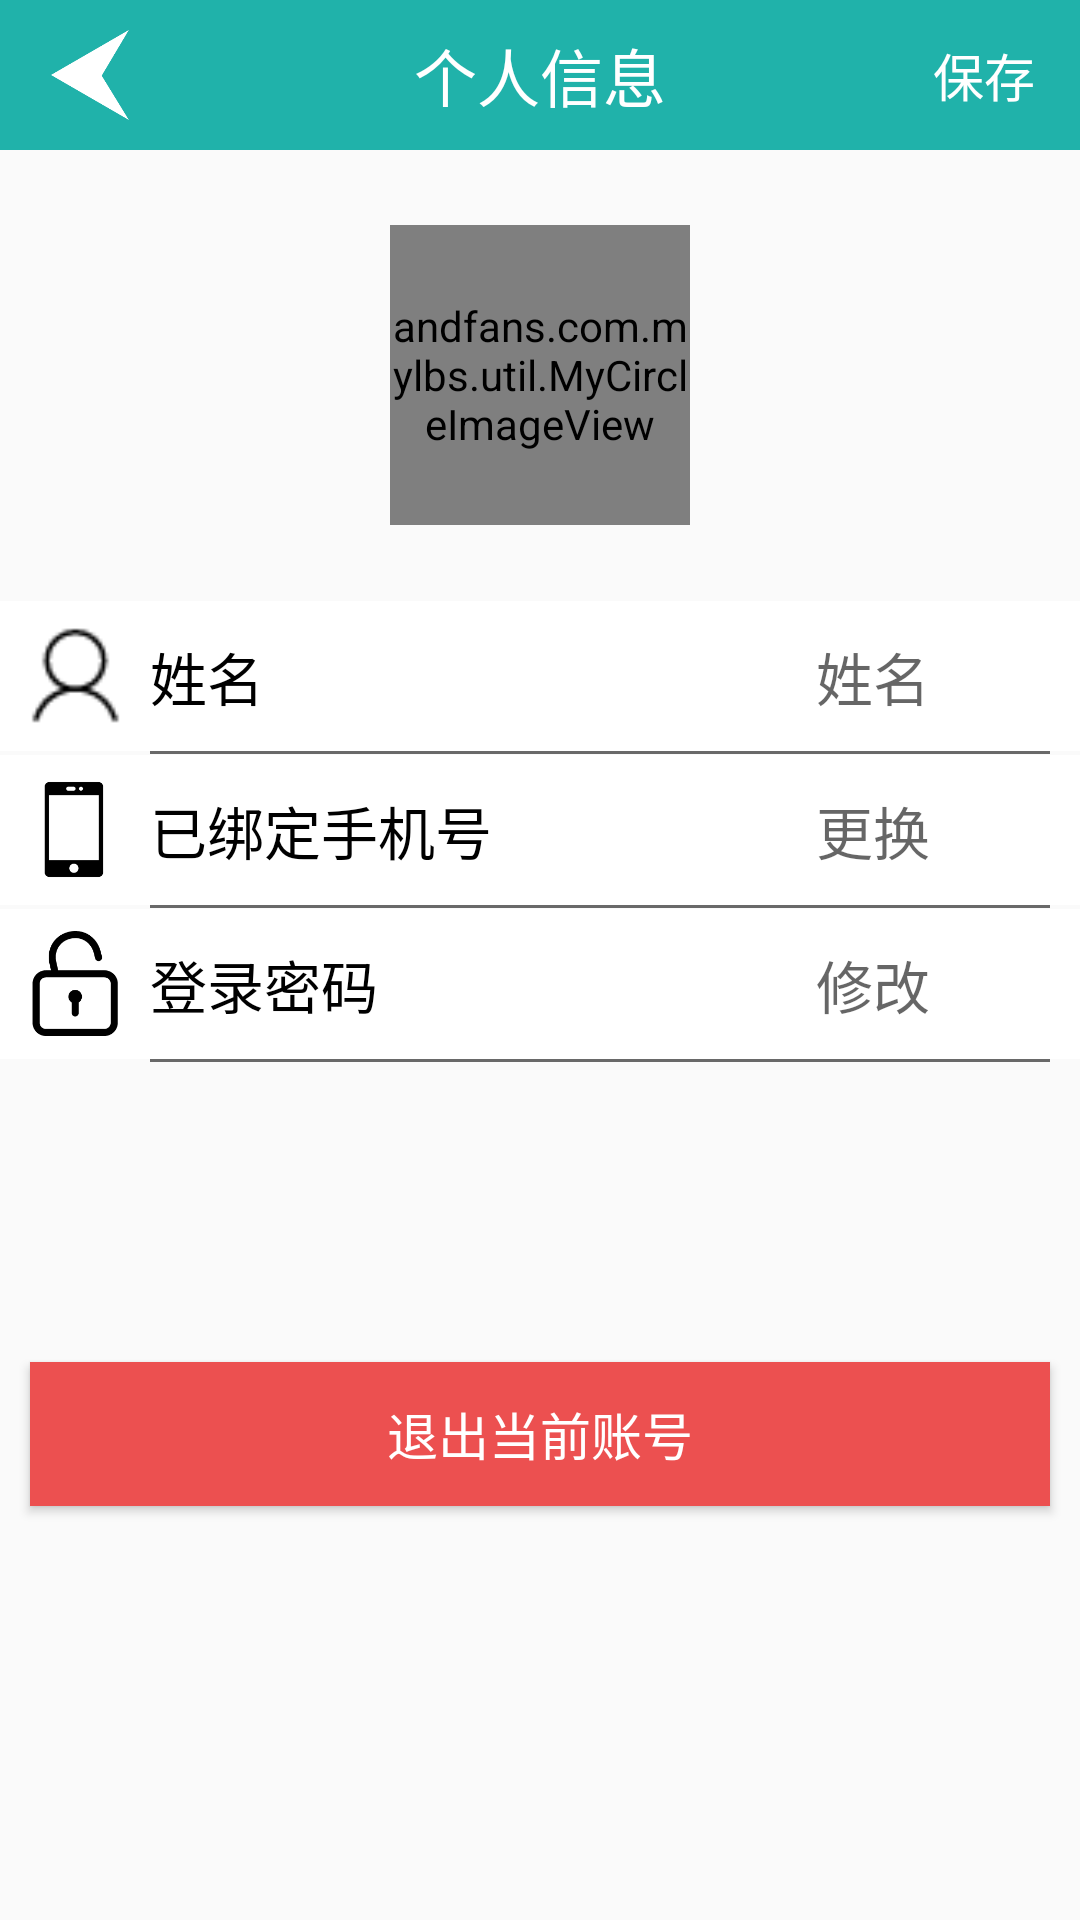

Where to tap for icons on this 1080×1920 app screen, as point (x, y):
back arrow: point (90, 75)
password: point (75, 983)
phonenumber: point (73, 829)
